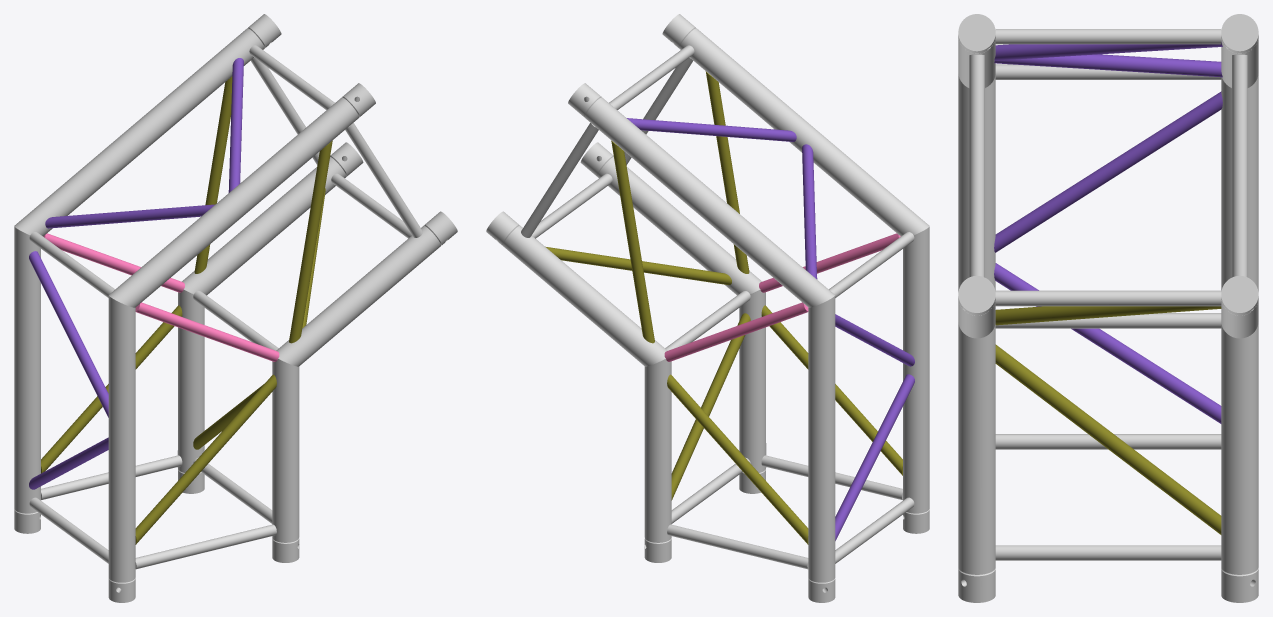
3 renders of one model, left to right at view 1: azimuth 30°, elevation 25°; view 2: azimuth 150°, elevation 25°; view 3: azimuth 270°, elevation 25°, orthographic. The views are drawn at different scales.
Visible parts, largest first — view 1: 260030441; view 2: 260030441; view 3: 260030441.
Boxes of the visible parts, bbox=[...] form: 260030441: bbox=[14, 14, 457, 602]; 260030441: bbox=[486, 14, 929, 602]; 260030441: bbox=[958, 14, 1258, 602].
Size of the model in its own units: 0.7132 by 0.9 by 0.3873.
